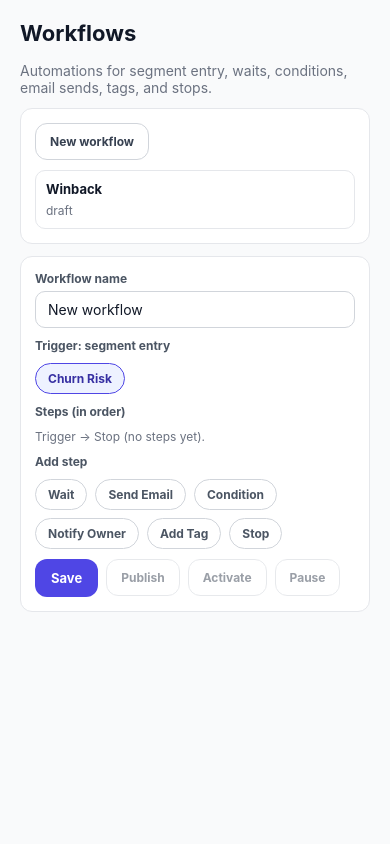
OwnerMarketingWorkflowsScreen › selects a workflow, shows runs, and activates it
The width and height of the screenshot is (390, 844).
Click the button with aria-label "Edit workflow Winback": (74, 189) [35, 170, 355, 229]
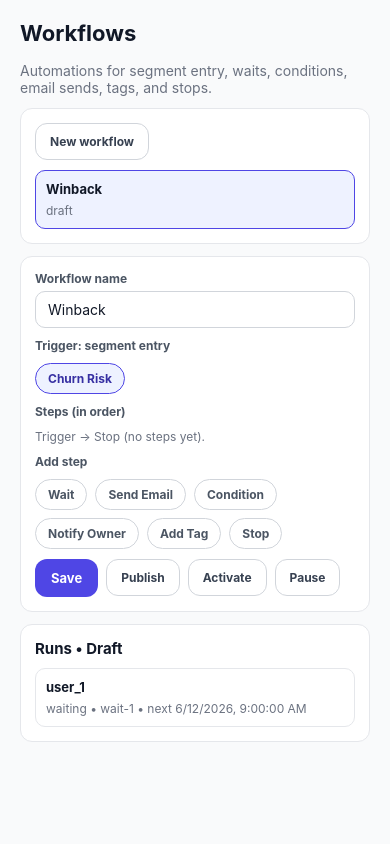
Now the text "user_1" is shown, box [46, 679, 85, 695]
Click the button labelled "Activate": (227, 578) [188, 559, 267, 596]
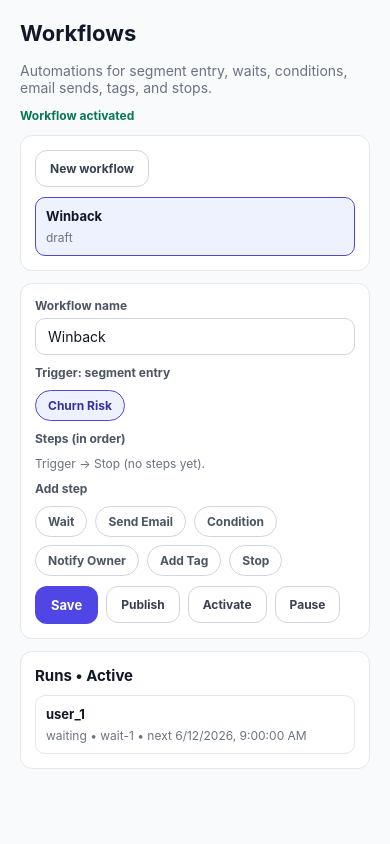
Now the text "Workflow activated" is shown, box [20, 108, 134, 123]
